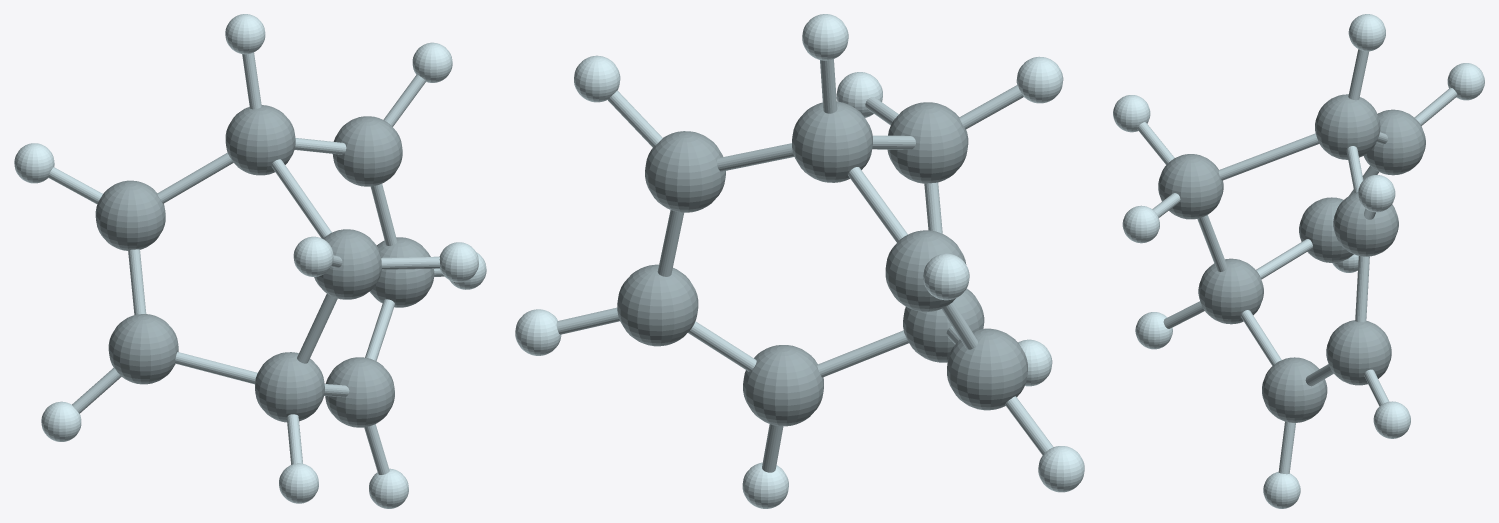
Rendered from irc_step_142.glb.
3 renders of one model, left to right at view 1: azimuth 30°, elevation 25°; view 2: azimuth 150°, elevation 25°; view 3: azimuth 270°, elevation 25°, orthographic. The views are drawn at different scales.
Parts seen in each view (by area): view 1: Renderer Node; view 2: Renderer Node; view 3: Renderer Node.
Boxes of the visible parts, left/top/right/bottom form: Renderer Node: left=14, top=14, right=486, bottom=508; Renderer Node: left=515, top=14, right=1084, bottom=508; Renderer Node: left=1113, top=14, right=1484, bottom=508.
Bounding box in the file's own units: 5.3 × 5.26 × 3.96.
